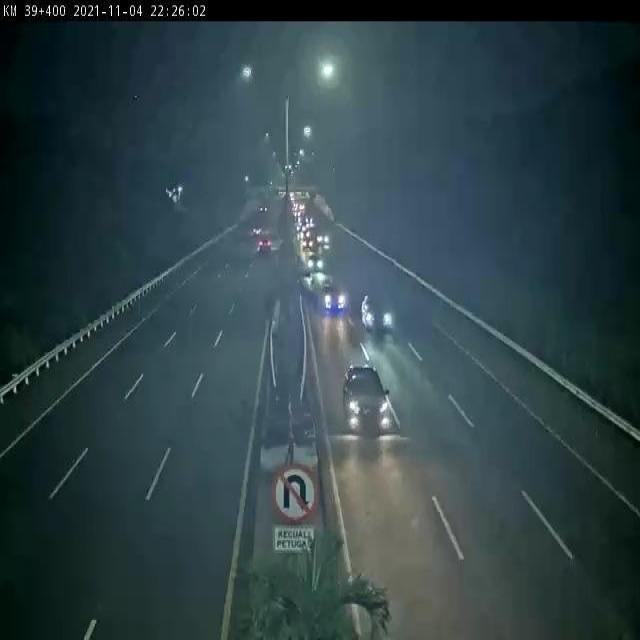Car: (343, 363, 392, 432), (360, 293, 394, 331), (319, 281, 345, 312), (306, 254, 323, 272), (258, 238, 270, 251), (301, 237, 313, 250)
